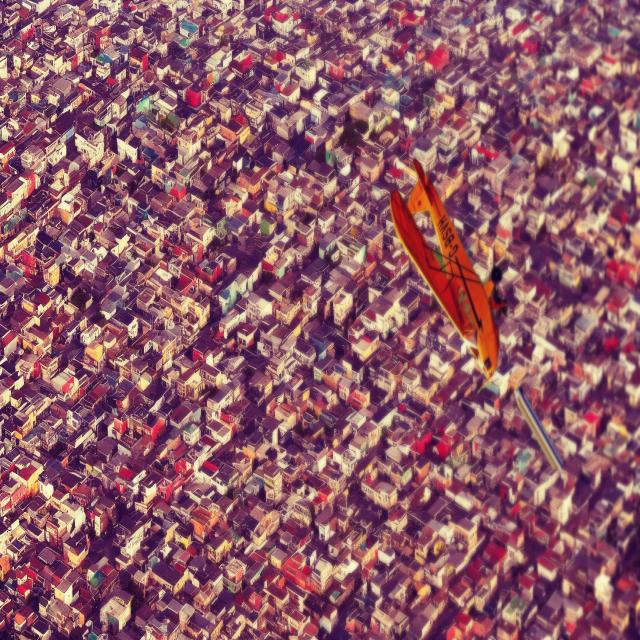airplane: (388, 156, 508, 382)
